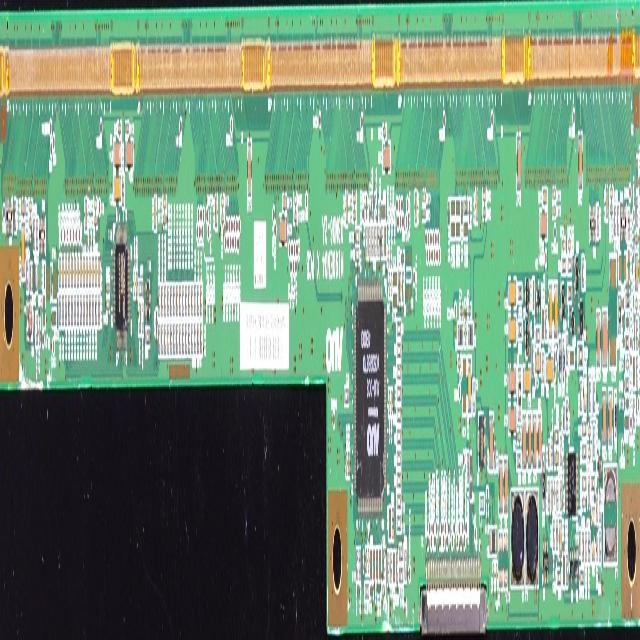Capacitor Jumper: (609, 256, 616, 366), (112, 136, 121, 174), (516, 131, 521, 195), (498, 456, 503, 517), (503, 456, 508, 517), (488, 413, 493, 473), (125, 138, 134, 171), (29, 262, 38, 295), (553, 284, 558, 342), (602, 310, 607, 368), (508, 313, 516, 349), (382, 141, 391, 172), (279, 214, 287, 248), (539, 209, 547, 242), (508, 403, 516, 436), (113, 175, 121, 207), (578, 133, 582, 195), (247, 140, 251, 202), (21, 222, 25, 284), (508, 365, 516, 396), (522, 411, 526, 473), (508, 278, 516, 308), (548, 282, 552, 342), (602, 388, 606, 446), (608, 390, 612, 448), (527, 413, 531, 471), (596, 312, 600, 369), (538, 416, 542, 470), (546, 358, 553, 386), (523, 368, 530, 396), (583, 369, 587, 416), (634, 252, 638, 295), (533, 414, 536, 468), (468, 363, 471, 416), (344, 190, 348, 229), (558, 521, 562, 559), (398, 270, 402, 306), (42, 294, 46, 329), (20, 197, 26, 218), (414, 187, 417, 227), (475, 188, 478, 226), (88, 252, 91, 290), (85, 253, 88, 291), (82, 253, 85, 291), (58, 253, 61, 291), (67, 253, 70, 291), (79, 253, 82, 291), (61, 253, 64, 291), (605, 187, 608, 224), (73, 253, 76, 290), (76, 253, 79, 290), (94, 253, 97, 290), (70, 253, 73, 289), (64, 255, 67, 291), (91, 255, 94, 290), (215, 196, 218, 230), (84, 198, 87, 232), (282, 194, 287, 212), (421, 206, 426, 224), (364, 581, 369, 599), (517, 426, 521, 448), (352, 207, 357, 224), (536, 352, 540, 373), (482, 188, 487, 204), (162, 196, 167, 212), (587, 446, 592, 462), (593, 423, 595, 462), (154, 194, 156, 232), (554, 450, 558, 469), (382, 122, 386, 141), (482, 206, 487, 221), (220, 209, 225, 224), (162, 213, 167, 228), (552, 204, 556, 222), (98, 253, 100, 289), (106, 296, 110, 314), (220, 194, 225, 208), (133, 266, 135, 301), (374, 190, 376, 224), (609, 203, 613, 220), (293, 210, 297, 227), (388, 267, 390, 301), (390, 270, 392, 304), (390, 388, 392, 422), (388, 387, 390, 420), (348, 448, 350, 481), (486, 486, 488, 519), (422, 188, 426, 204), (293, 192, 297, 208), (587, 424, 591, 440), (345, 449, 347, 481), (155, 308, 157, 339), (38, 318, 40, 349), (494, 443, 496, 474), (609, 185, 613, 200), (552, 187, 556, 202), (352, 190, 356, 205), (365, 193, 367, 223), (371, 194, 373, 224), (634, 233, 638, 248), (459, 305, 463, 320), (467, 305, 471, 320), (458, 357, 462, 372), (625, 356, 629, 371), (596, 535, 598, 564), (634, 298, 638, 312), (368, 548, 370, 574), (365, 547, 367, 572), (106, 282, 110, 294), (93, 198, 97, 209), (125, 121, 128, 135), (136, 269, 137, 301), (548, 439, 549, 470), (596, 498, 597, 529), (579, 528, 580, 557), (94, 216, 97, 225)
IC: (354, 278, 386, 512), (112, 224, 130, 350), (565, 452, 579, 521), (478, 411, 485, 474), (589, 206, 595, 246), (620, 206, 626, 242)
Resistor Jumper: (558, 335, 562, 388), (584, 528, 588, 568), (588, 378, 592, 416), (388, 505, 392, 543), (35, 217, 39, 254), (616, 203, 620, 239), (51, 306, 57, 330), (578, 342, 584, 365), (592, 383, 596, 416), (565, 552, 568, 596), (618, 295, 621, 337), (392, 290, 398, 310), (35, 310, 38, 350), (344, 386, 349, 410), (559, 434, 562, 474), (398, 566, 404, 586), (565, 332, 568, 371), (145, 326, 150, 349), (596, 201, 599, 239), (392, 270, 398, 289), (190, 284, 193, 322), (517, 322, 523, 341), (32, 216, 35, 253), (358, 546, 361, 583), (167, 284, 170, 320), (624, 292, 630, 310), (172, 284, 175, 320), (185, 285, 188, 321), (197, 321, 200, 357), (190, 322, 193, 358), (472, 380, 475, 416), (565, 398, 568, 434), (550, 433, 553, 469), (587, 475, 590, 511), (391, 508, 394, 544), (581, 530, 584, 566), (381, 226, 384, 261), (517, 283, 522, 304), (58, 296, 61, 331), (185, 322, 188, 357), (396, 449, 401, 470), (516, 450, 521, 471), (396, 469, 401, 490), (559, 479, 562, 514), (479, 492, 484, 513), (598, 490, 601, 525), (552, 519, 555, 554), (587, 529, 590, 564), (598, 529, 601, 564), (404, 548, 407, 583), (354, 228, 360, 245), (73, 293, 76, 327), (463, 198, 468, 218), (396, 318, 401, 338), (562, 334, 564, 384), (396, 361, 401, 381), (396, 407, 401, 427), (396, 428, 401, 448), (396, 492, 401, 512), (396, 514, 401, 534), (94, 293, 97, 326), (354, 248, 360, 264), (382, 548, 385, 580), (396, 384, 401, 403), (590, 475, 595, 494), (91, 295, 94, 326), (97, 295, 100, 326), (561, 256, 566, 274), (624, 335, 629, 353), (555, 521, 558, 550), (567, 285, 572, 302), (396, 341, 401, 358), (628, 206, 630, 246), (567, 259, 572, 275), (138, 279, 142, 299), (536, 326, 540, 346), (624, 377, 629, 393), (582, 442, 586, 462), (579, 570, 584, 586), (402, 269, 404, 308), (636, 354, 638, 393), (122, 172, 124, 210), (636, 194, 638, 232), (161, 282, 163, 320), (158, 283, 160, 321), (182, 282, 184, 320), (194, 283, 196, 321), (188, 283, 190, 321), (636, 316, 638, 354), (167, 321, 169, 359), (179, 321, 181, 359), (580, 377, 582, 415), (582, 420, 586, 439), (466, 450, 468, 488), (14, 197, 16, 234), (179, 282, 181, 319), (197, 283, 199, 320), (161, 322, 163, 359), (164, 322, 166, 359), (170, 321, 172, 358), (200, 322, 202, 359), (158, 322, 160, 359), (633, 397, 635, 434), (556, 480, 558, 517), (28, 197, 32, 215), (377, 224, 379, 260), (582, 254, 584, 290), (26, 259, 28, 295), (170, 284, 172, 320), (65, 293, 67, 329), (62, 293, 64, 329), (138, 302, 140, 338), (142, 302, 144, 338), (545, 306, 547, 342), (182, 322, 184, 358), (532, 342, 534, 378), (550, 479, 552, 515), (356, 548, 358, 584), (387, 551, 389, 587), (390, 552, 392, 588), (614, 204, 616, 239), (200, 285, 202, 320), (80, 292, 82, 327), (188, 322, 190, 357), (176, 323, 178, 358), (542, 348, 544, 383), (368, 226, 370, 260), (164, 285, 166, 319), (88, 292, 90, 326), (71, 294, 73, 328), (68, 294, 70, 328), (77, 294, 79, 328), (194, 322, 196, 356), (173, 324, 175, 358), (396, 551, 398, 585), (374, 226, 376, 259), (371, 226, 373, 259), (176, 285, 178, 318), (548, 479, 550, 512), (83, 294, 85, 326), (554, 428, 558, 444), (582, 474, 586, 490), (399, 546, 403, 562), (365, 227, 367, 258), (86, 295, 88, 326), (582, 494, 586, 509), (28, 217, 32, 231)
Transistor: (146, 283, 150, 321)
